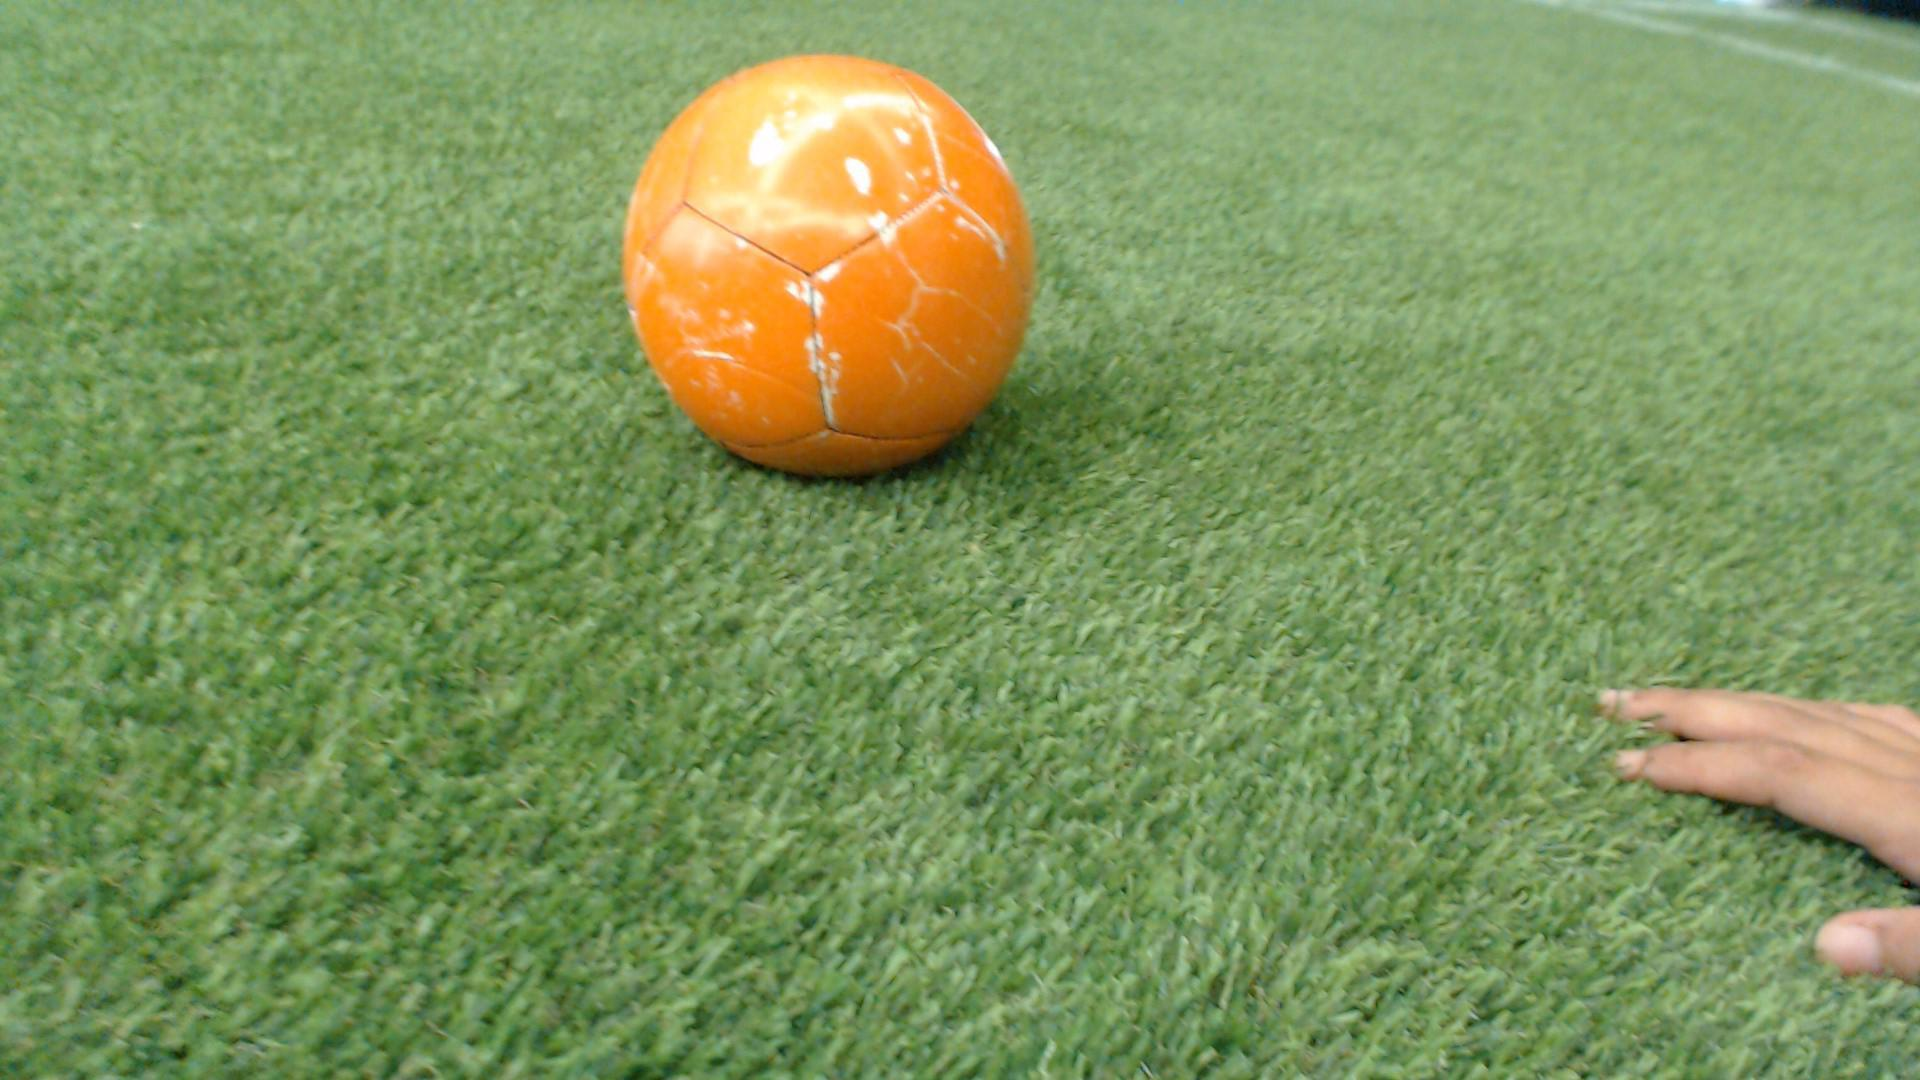bola: (595, 42, 1068, 501)
